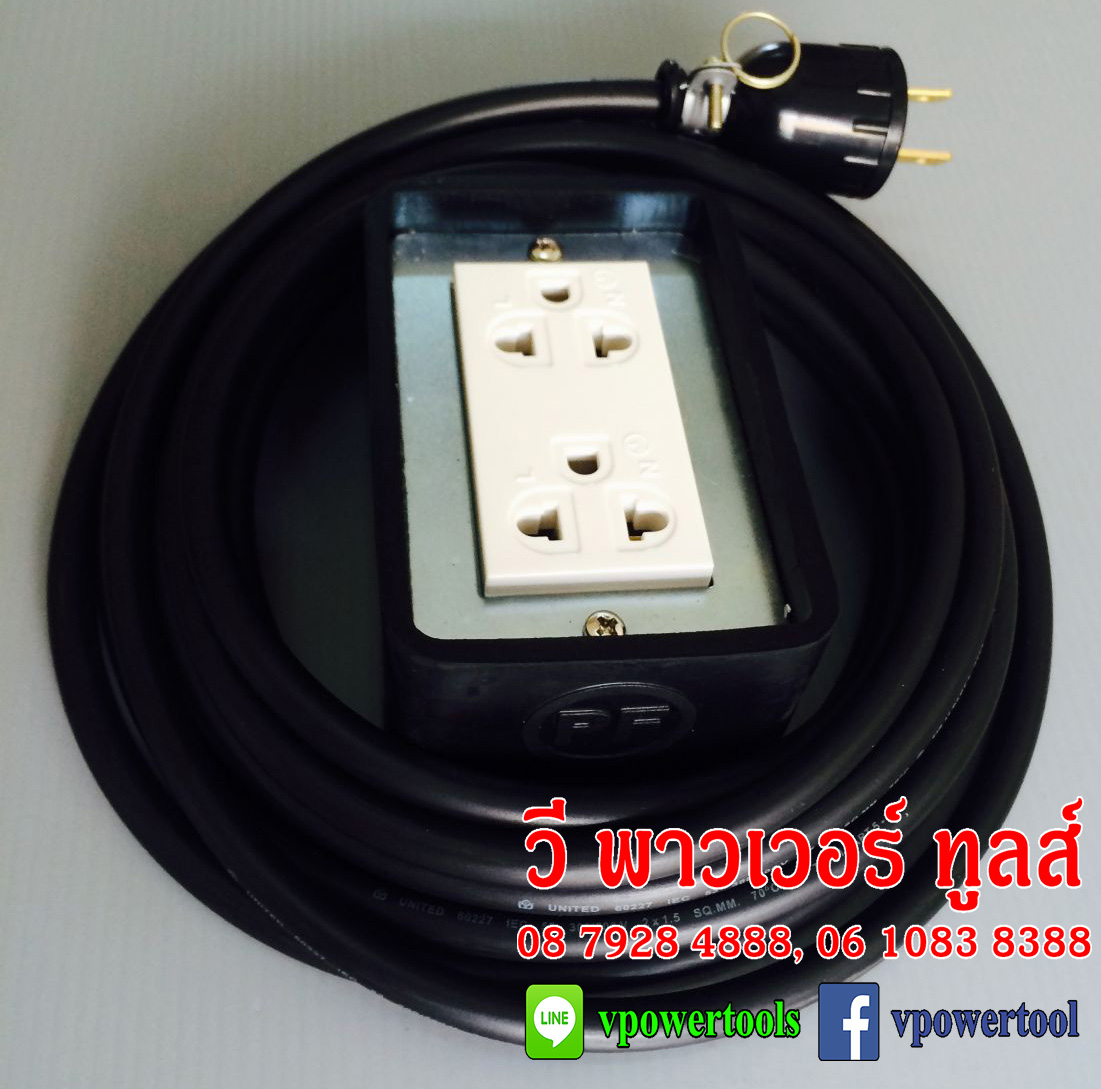Three_eye_plug: (338, 155, 870, 808)
